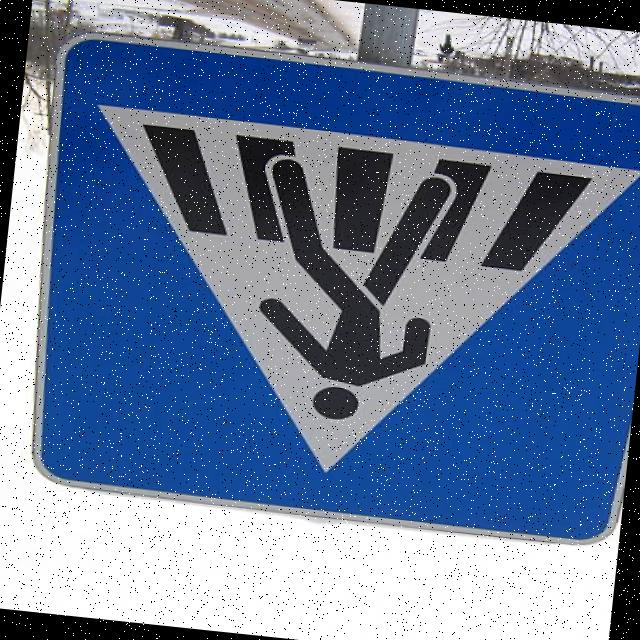crosswalk: (0, 18, 640, 572)
